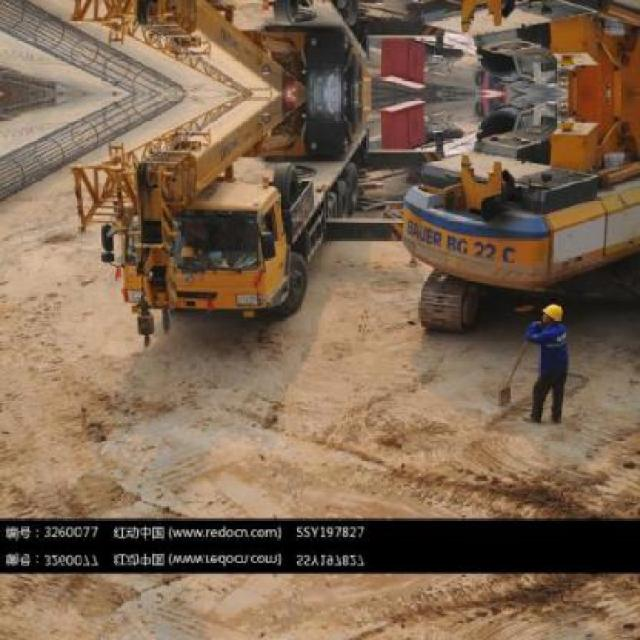helmet: (539, 298, 563, 327)
